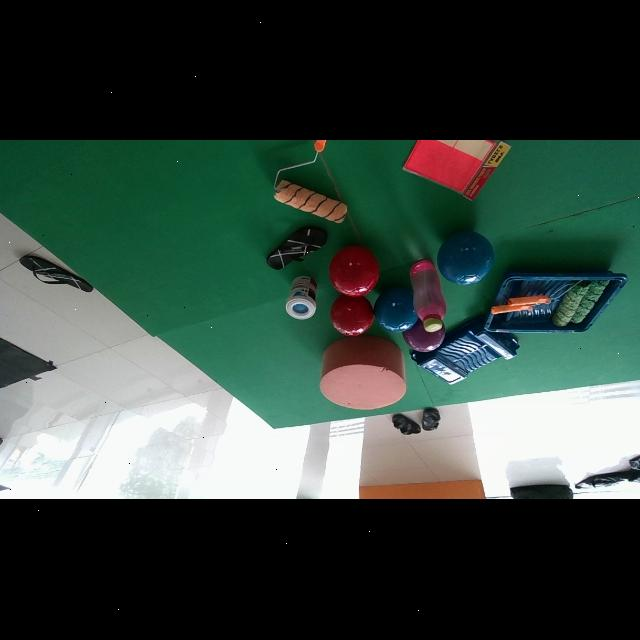B: (437, 230, 495, 285), (374, 287, 419, 333)
P: (403, 320, 445, 352)
R: (329, 246, 379, 297), (329, 296, 374, 338)
